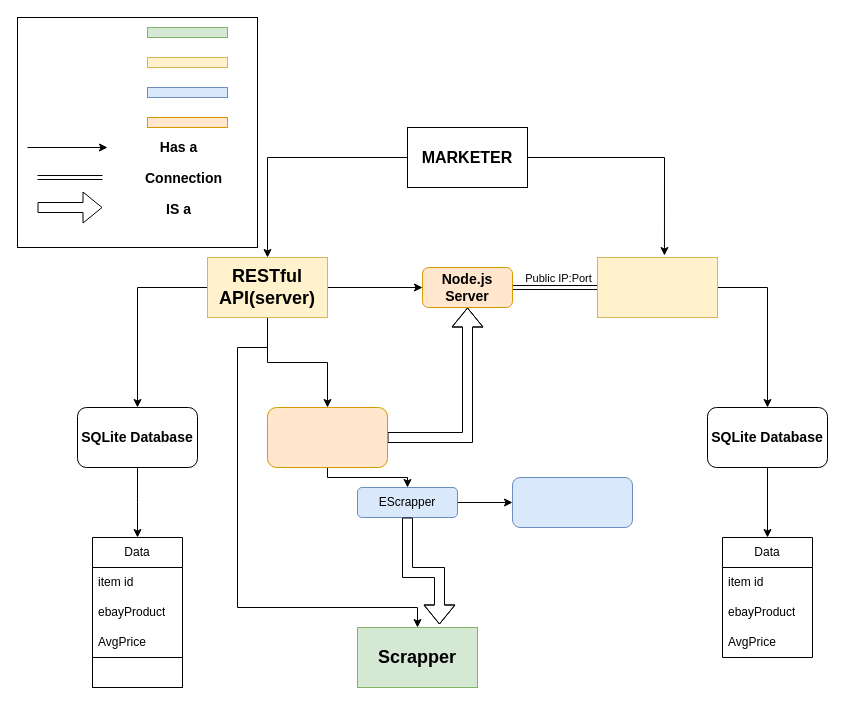
Image size: 845x705. Some labels were removed from this diagram. The shapes that lost their labels are listed below. From the top down, each one's box as (x1, y1, x2, y2) in pixels, then its label:
(16, 16, 258, 248): Self dependant app Other dependant Functions Components
(596, 256, 718, 318): MAPP Marketer app
(266, 406, 388, 468): E-RESTful
(512, 476, 632, 528): GET POST DELETE
(92, 656, 182, 688): Link
